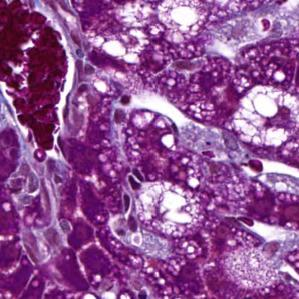ballooning: (129, 178, 206, 238), (231, 82, 297, 150)
